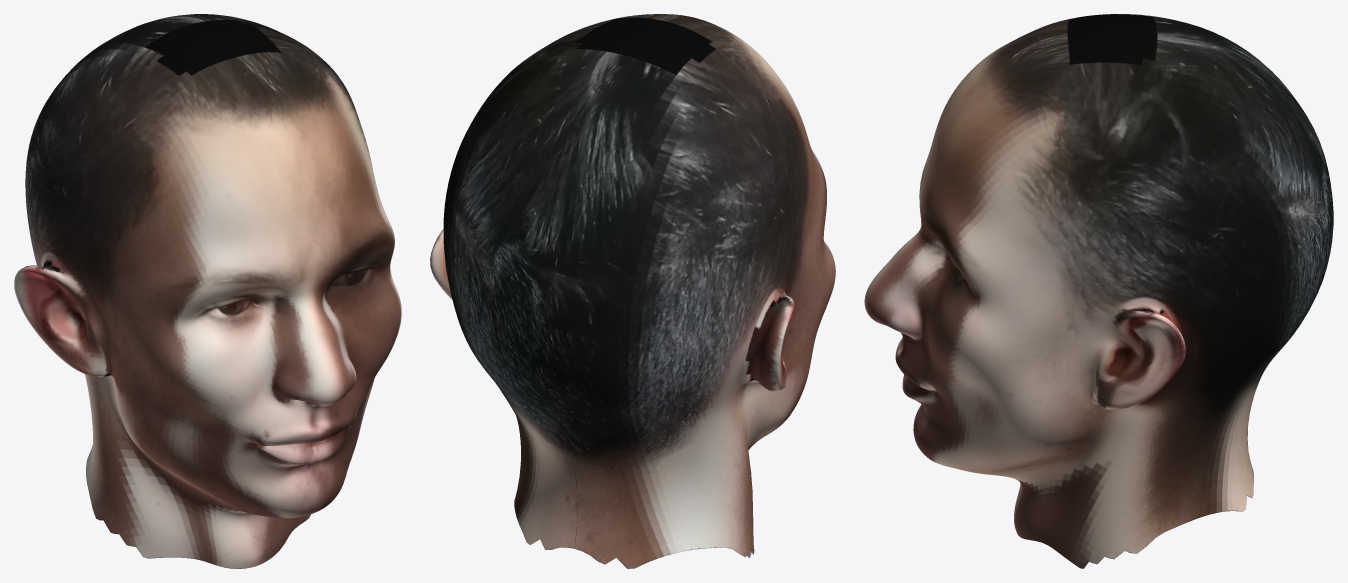
3 renders of one model, left to right at view 1: azimuth 30°, elevation 25°; view 2: azimuth 150°, elevation 25°; view 3: azimuth 270°, elevation 25°, orthographic. The views are drawn at different scales.
Visible parts, largest first — view 1: FaceBuilderHead; view 2: FaceBuilderHead; view 3: FaceBuilderHead.
Part boxes in pixels (x1=…): FaceBuilderHead: x1=14, y1=14, x2=401, y2=568; FaceBuilderHead: x1=430, y1=14, x2=835, y2=568; FaceBuilderHead: x1=864, y1=14, x2=1333, y2=568.
Size of the model in its own units: 1.58 by 2.23 by 1.88.
1 material, 1 textured.
